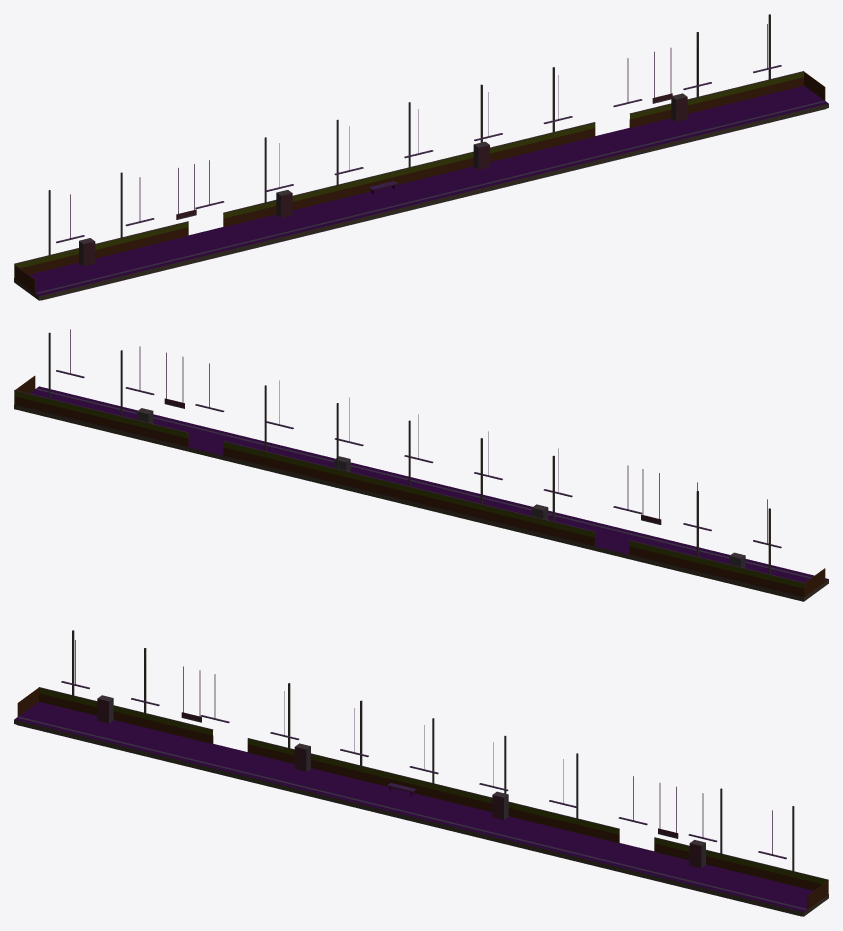
File: monorail_platform_s.glb
3 views of the same model, one above another, from view 1: azimuth 30°, elevation 25°; view 2: azimuth 150°, elevation 25°; view 3: azimuth 330°, elevation 25° (orthographic).
Visible parts, largest first — view 1: monorail_platform_s; view 2: monorail_platform_s; view 3: monorail_platform_s.
Boxes of the visible parts, x1,y1,x2,y2 form: monorail_platform_s: [14, 14, 828, 300]; monorail_platform_s: [14, 329, 828, 601]; monorail_platform_s: [14, 630, 828, 916].
Bounding box in the file's own units: 68.05 × 6.97 × 3.75.
